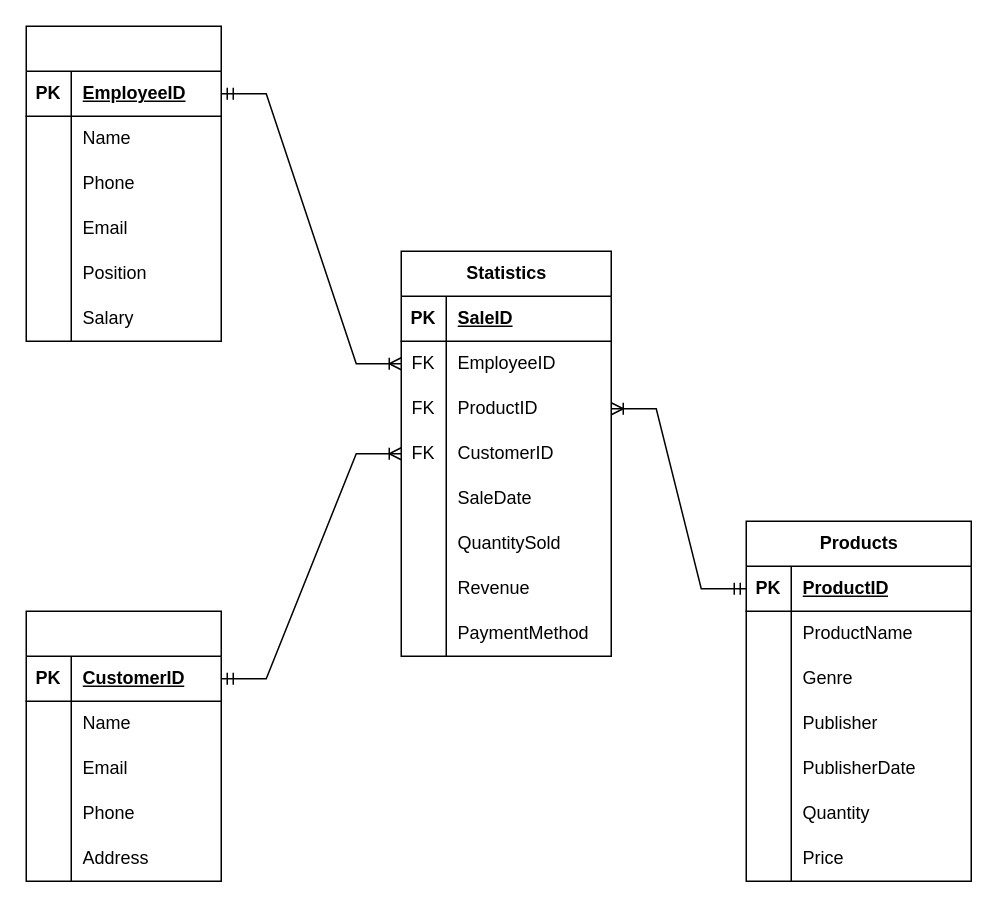
The diagram is 998 pixels wide and 908 high, and some of its shapes have lost their labels. Each missing label, with the box of its shape:
Customers: (25, 610, 221, 881)
Employees: (25, 25, 221, 341)
